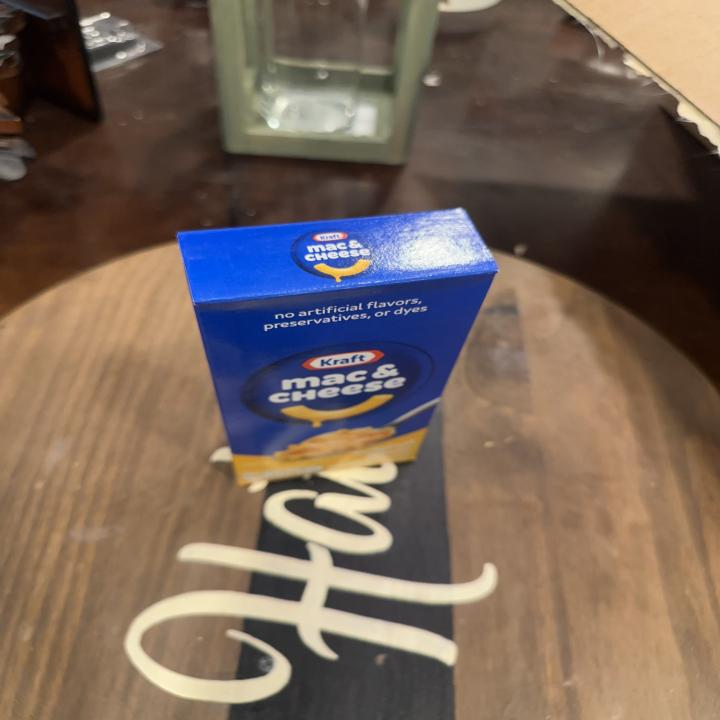Mac-And-Cheese: (178, 204, 498, 485)
